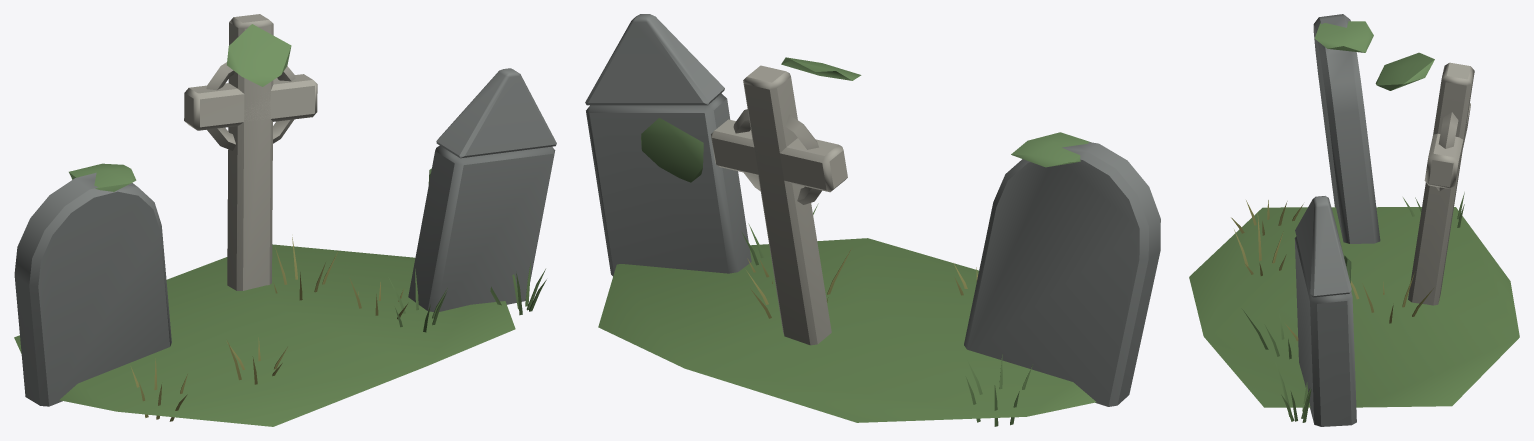
The model's file is env_gravestones.glb.
3 views of the same model, side by side, from view 1: azimuth 30°, elevation 25°; view 2: azimuth 150°, elevation 25°; view 3: azimuth 270°, elevation 25° (orthographic). The views are drawn at different scales.
Visible parts, largest first — view 1: env_gravestones; view 2: env_gravestones; view 3: env_gravestones.
Boxes of the visible parts, x1=… form: env_gravestones: x1=14, y1=14, x2=556, y2=426; env_gravestones: x1=585, y1=14, x2=1160, y2=426; env_gravestones: x1=1189, y1=14, x2=1519, y2=426.
Bounding box in the file's own units: 1.87 × 0.9609 × 1.08.
